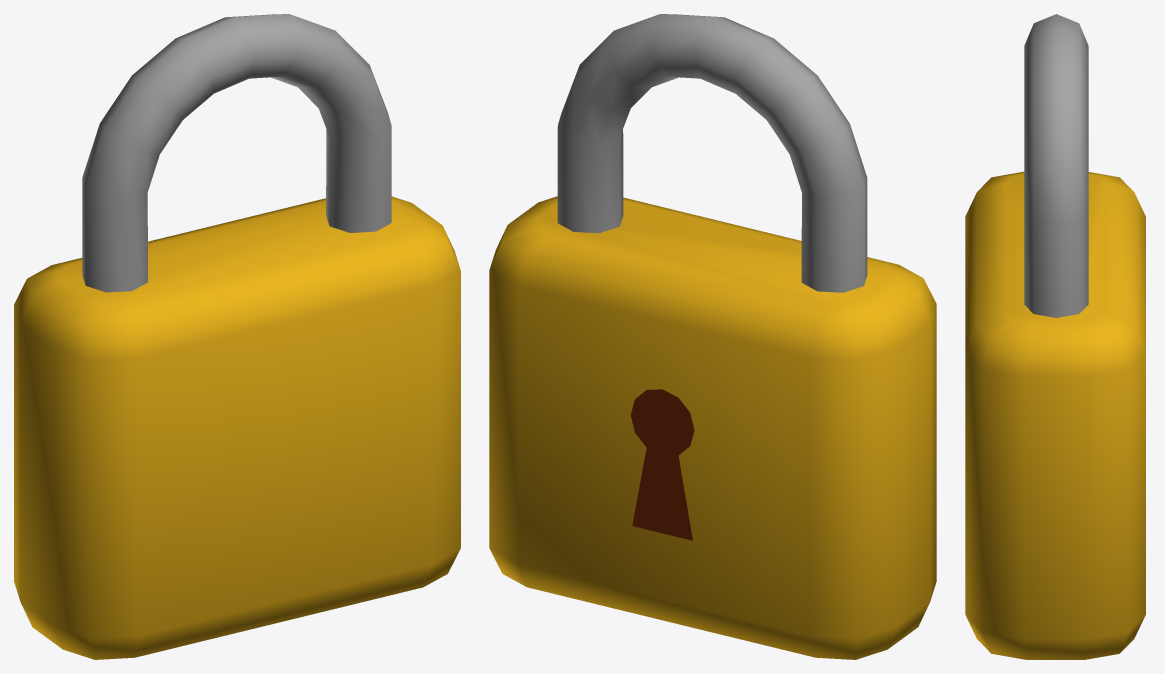
The model's file is padlock.fbx.
3 views of the same model, side by side, from view 1: azimuth 30°, elevation 25°; view 2: azimuth 150°, elevation 25°; view 3: azimuth 270°, elevation 25° (orthographic). The views are drawn at different scales.
Visible parts, largest first — view 1: padlock; view 2: padlock; view 3: padlock.
Boxes of the visible parts, x1=… form: padlock: x1=14, y1=14, x2=460, y2=659; padlock: x1=489, y1=14, x2=936, y2=659; padlock: x1=965, y1=14, x2=1145, y2=659.
Size of the model in its own units: 304 by 425 by 129.
